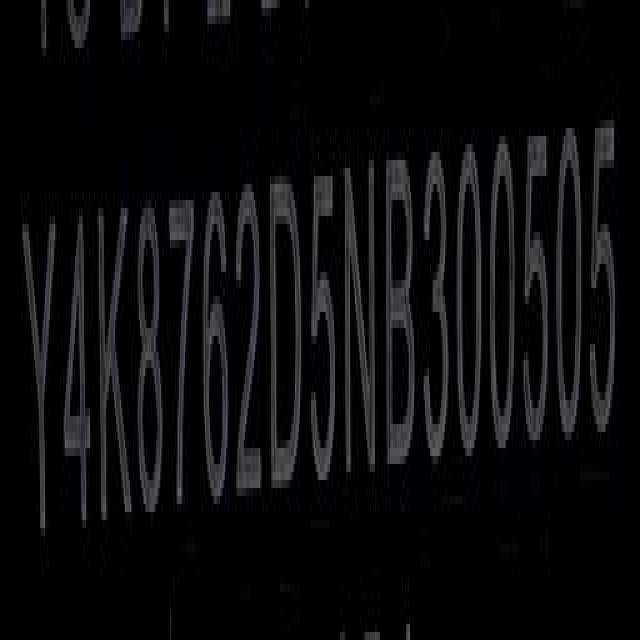0: (554, 114, 584, 444), (488, 136, 516, 458), (458, 142, 485, 464)
2: (236, 186, 263, 514)
3: (423, 148, 452, 469)
4: (62, 204, 92, 543)
5: (592, 110, 622, 446), (523, 122, 550, 450), (310, 162, 336, 492)
6: (203, 193, 230, 507)
7: (169, 190, 195, 523)
8: (135, 197, 162, 531)
B: (384, 144, 416, 475)
D: (270, 173, 302, 502)
K: (98, 193, 132, 535)
N: (343, 142, 378, 480)
Y: (21, 208, 59, 530)
